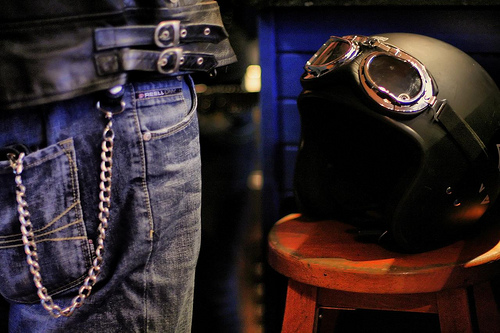helmet: (286, 29, 500, 234)
